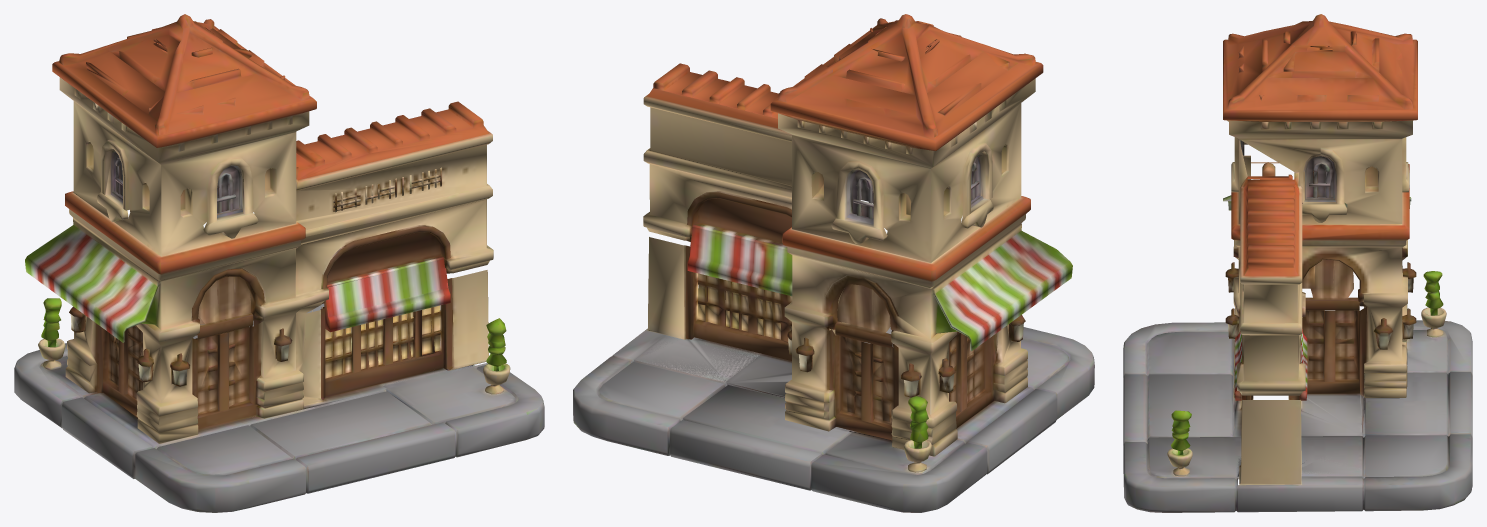
Rendered from shop.glb.
3 renders of one model, left to right at view 1: azimuth 30°, elevation 25°; view 2: azimuth 150°, elevation 25°; view 3: azimuth 270°, elevation 25°, orthographic. The views are drawn at different scales.
Visible parts, largest first — view 1: tripo_node_2e736184-0787-4073-b1bd-c91b1c11405d; view 2: tripo_node_2e736184-0787-4073-b1bd-c91b1c11405d; view 3: tripo_node_2e736184-0787-4073-b1bd-c91b1c11405d.
Part boxes in pixels (x1,y1,x2,y2): tripo_node_2e736184-0787-4073-b1bd-c91b1c11405d: (14, 14, 544, 512); tripo_node_2e736184-0787-4073-b1bd-c91b1c11405d: (573, 14, 1094, 512); tripo_node_2e736184-0787-4073-b1bd-c91b1c11405d: (1123, 14, 1472, 512).
Bounding box in the file's own units: 0.955 × 0.9798 × 0.8188.
1 material, 1 textured.
